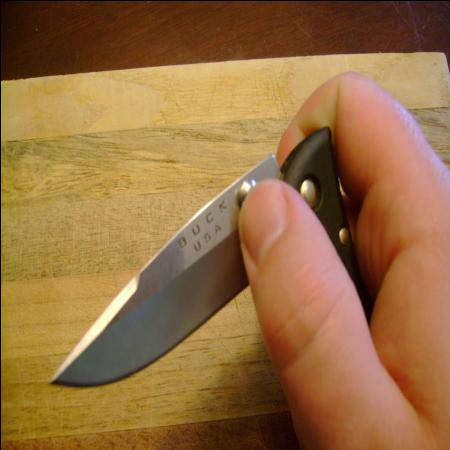long weapon: (39, 111, 335, 392)
